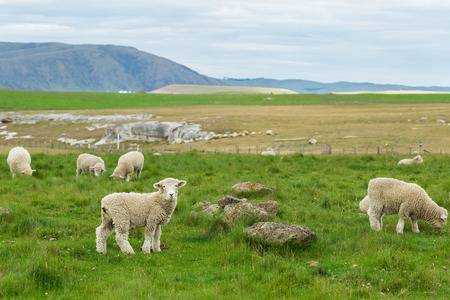sheep: (99, 176, 189, 256), (366, 175, 448, 240), (5, 145, 39, 182), (112, 150, 148, 183), (76, 153, 106, 179)
